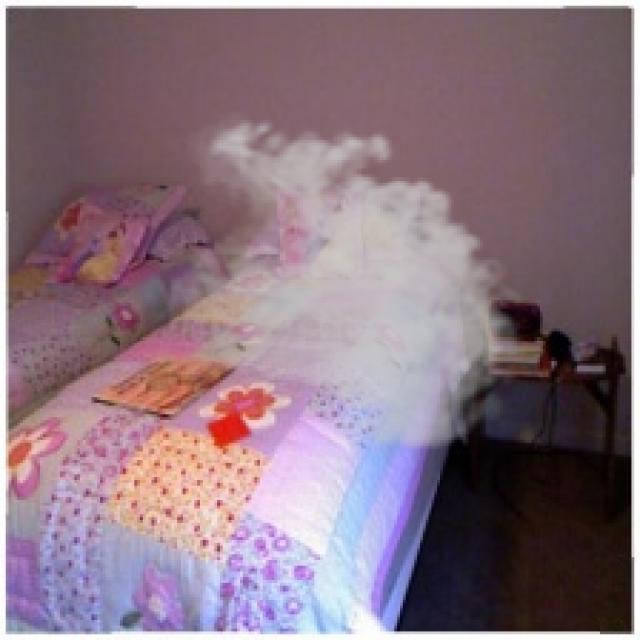smoke: (166, 109, 531, 457)
